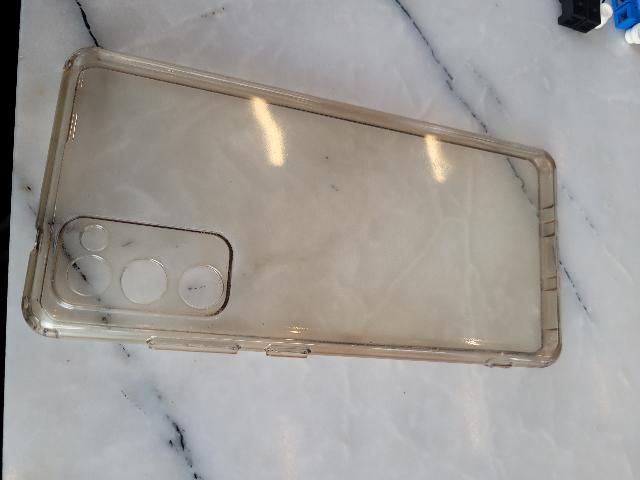Plastik: (20, 43, 567, 376)
